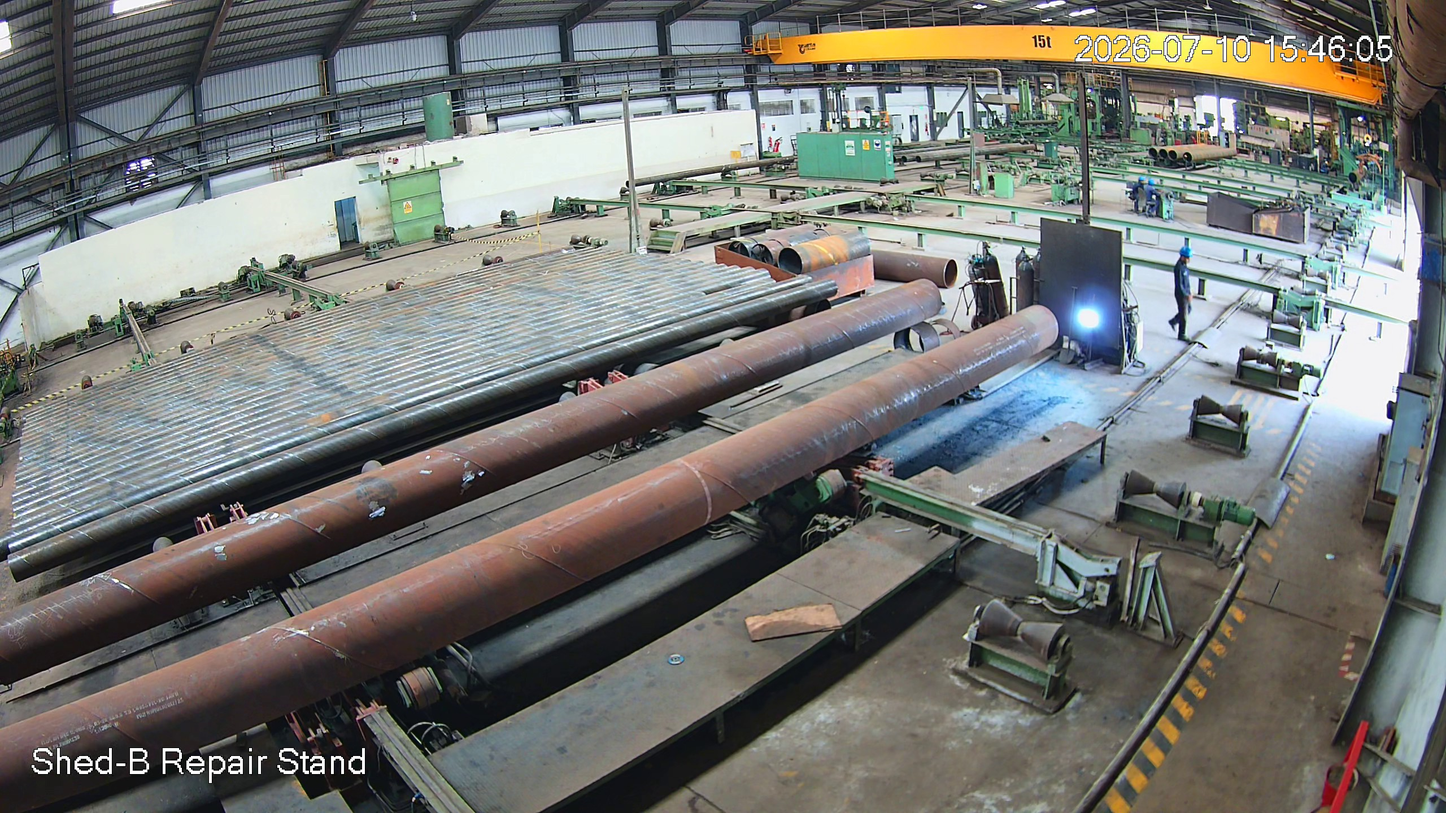Helmet: (1177, 243, 1199, 272)
Person: (1171, 246, 1197, 341)
